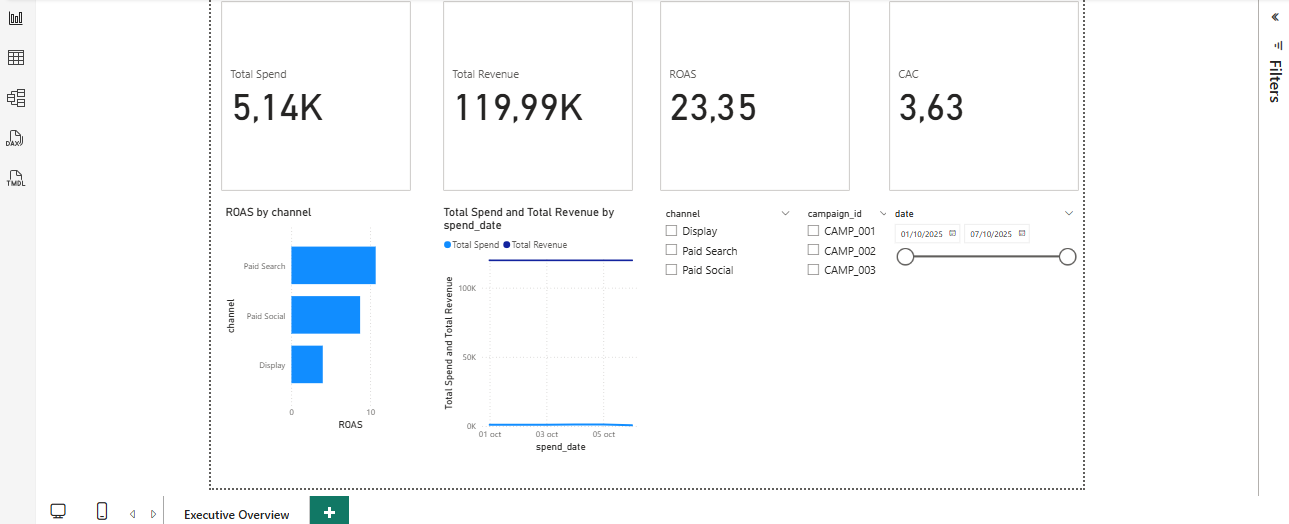

This screenshot's page, from the dashboard's own definition file:
{"tool":"powerbi","page":{"name":"Executive Overview","canvas":[1280,720],"ordinal":0},"visuals":[{"type":"cardVisual","fields":{"Data":["dwh fact_spend.Total Spend"]},"box":[10,0,288,288],"z":0},{"type":"cardVisual","fields":{"Data":["dwh fact_revenue.Total Revenue"]},"box":[336,0,288,288],"z":1},{"type":"cardVisual","fields":{"Data":["dwh fact_revenue.ROAS"]},"box":[656,0,288,288],"z":2},{"type":"cardVisual","fields":{"Data":["dwh fact_revenue.CAC"]},"box":[992,0,288,288],"z":3},{"type":"clusteredBarChart","fields":{"Category":["dwh fact_revenue.channel"],"Y":["dwh fact_revenue.ROAS"]},"box":[16,304,288,336],"z":4},{"type":"lineChart","fields":{"Category":["dwh fact_spend.spend_date"],"Y":["dwh fact_spend.Total Spend","dwh fact_revenue.Total Revenue"]},"box":[336,304,304,368],"z":5},{"type":"slicer","fields":{"Values":["dim channel.channel"]},"box":[656,304,208,288],"z":6},{"type":"slicer","fields":{"Values":["dim campaign.campaign_id"]},"box":[864,304,144,288],"z":7},{"type":"slicer","fields":{"Values":["dim date.date"]},"box":[992,304,288,224],"z":8}]}

Visuals, with their boxes on the page's 1280x720 design canvas (x1, y1, x2, y2). These are canvas units, not pixel positions in the 1289x524 screenshot, which may show the page scaled, cropped or inside an application window:
cardVisual - dwh fact_spend.Total Spend: 10, 0, 298, 288
cardVisual - dwh fact_revenue.Total Revenue: 336, 0, 624, 288
cardVisual - dwh fact_revenue.ROAS: 656, 0, 944, 288
cardVisual - dwh fact_revenue.CAC: 992, 0, 1280, 288
clusteredBarChart - dwh fact_revenue.channel x dwh fact_revenue.ROAS: 16, 304, 304, 640
lineChart - dwh fact_spend.spend_date x dwh fact_spend.Total Spend: 336, 304, 640, 672
slicer - dim channel.channel: 656, 304, 864, 592
slicer - dim campaign.campaign_id: 864, 304, 1008, 592
slicer - dim date.date: 992, 304, 1280, 528
